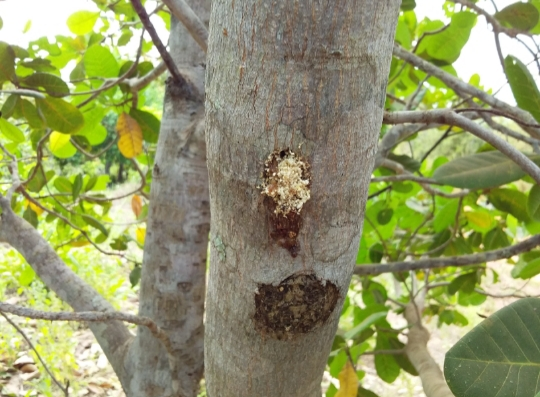Apate terebrans: (241, 143, 340, 239)
